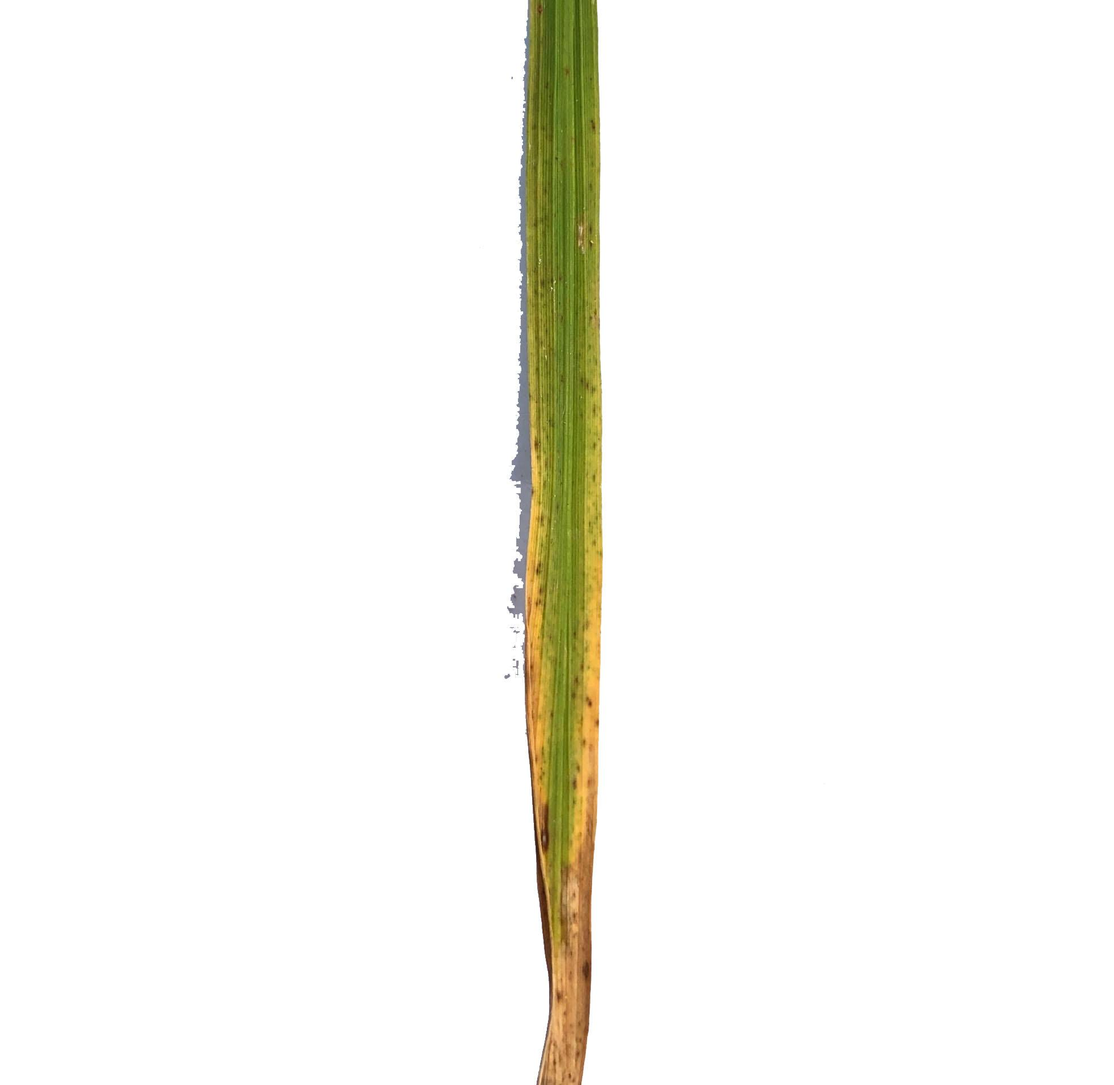Tungro: (532, 125, 600, 831), (542, 848, 587, 912)
